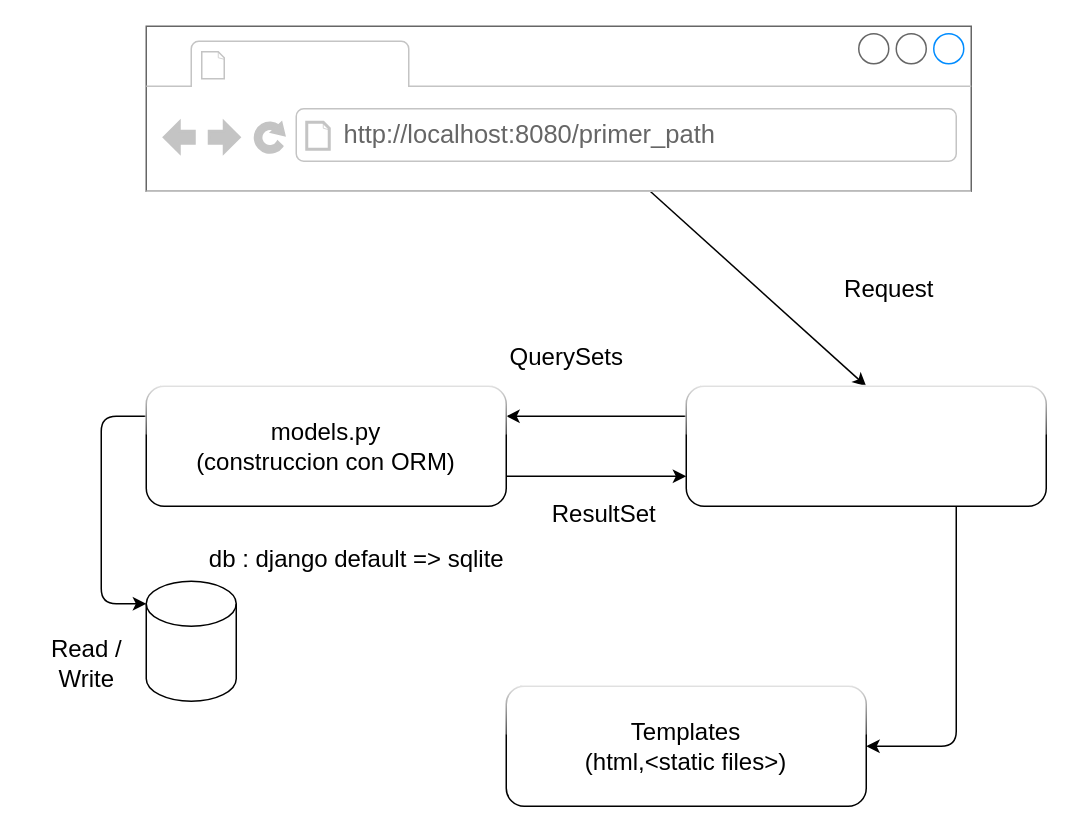
This 1073x833 diagram has some shape labels left out. Each missing label, with the centre of its shape:
Page 1: pixel 318 63
views.py (Controllers): pixel 865 445
